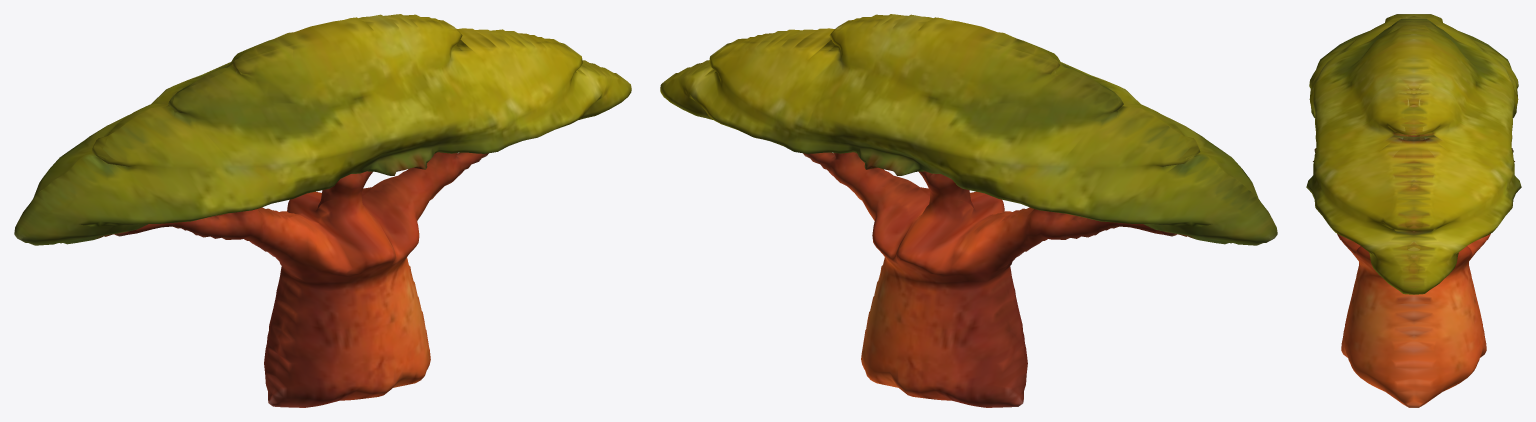
File: 03_baobab_trees_r02_c03.glb
The picture shows the model from 3 angles, left to right: view 1: azimuth 30°, elevation 25°; view 2: azimuth 150°, elevation 25°; view 3: azimuth 270°, elevation 25°; orthographic projection. The views are drawn at different scales.
Parts seen in each view (by area): view 1: 03_baobab_trees_r02_c03; view 2: 03_baobab_trees_r02_c03; view 3: 03_baobab_trees_r02_c03.
Part boxes in pixels (bbox=[...]): 03_baobab_trees_r02_c03: bbox=[14, 14, 631, 407]; 03_baobab_trees_r02_c03: bbox=[660, 14, 1277, 407]; 03_baobab_trees_r02_c03: bbox=[1306, 14, 1521, 407].
Size of the model in its own units: 3.27 by 1.85 by 1.14.
Materials: 1 (1 with a texture image).
